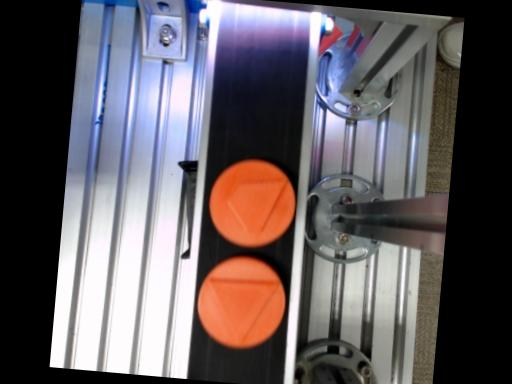Orange_Waper: (196, 255, 284, 348), (207, 159, 294, 247)
